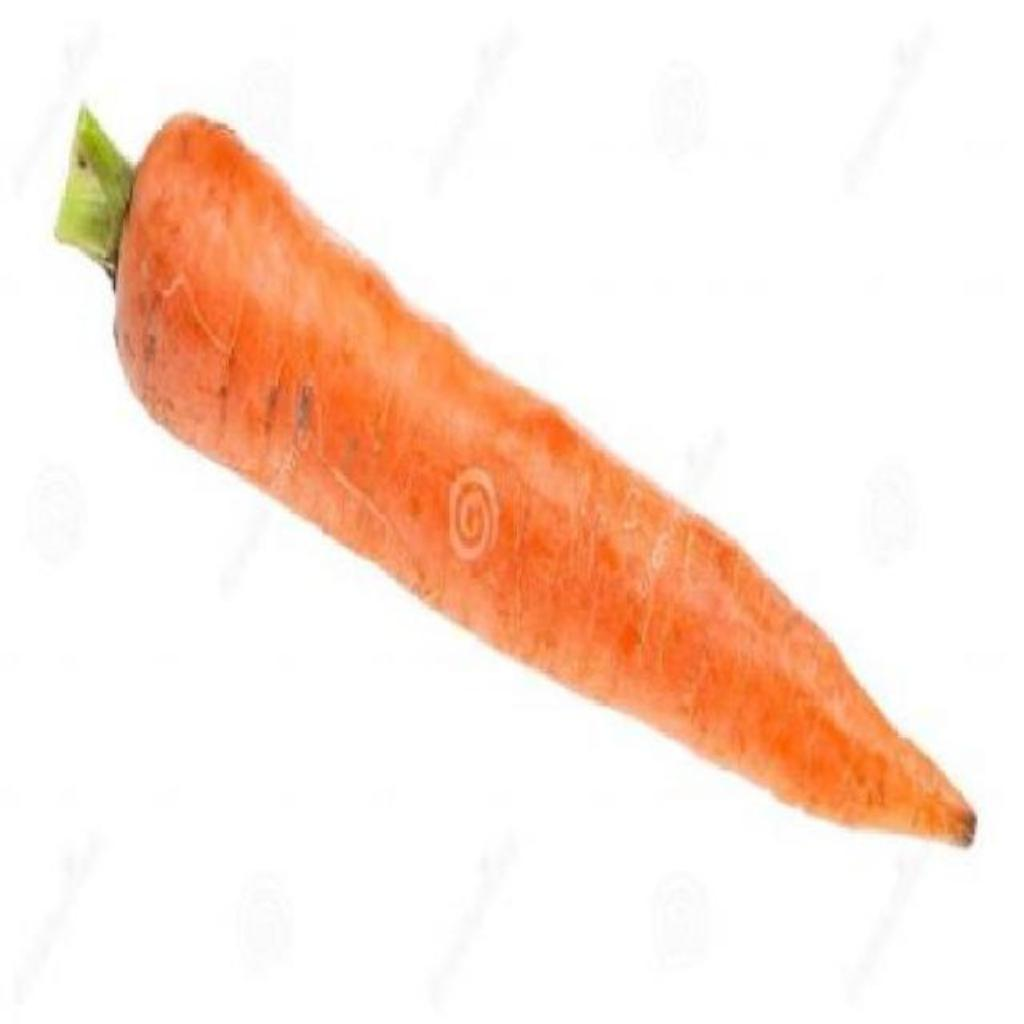carrot: (56, 108, 976, 843)
